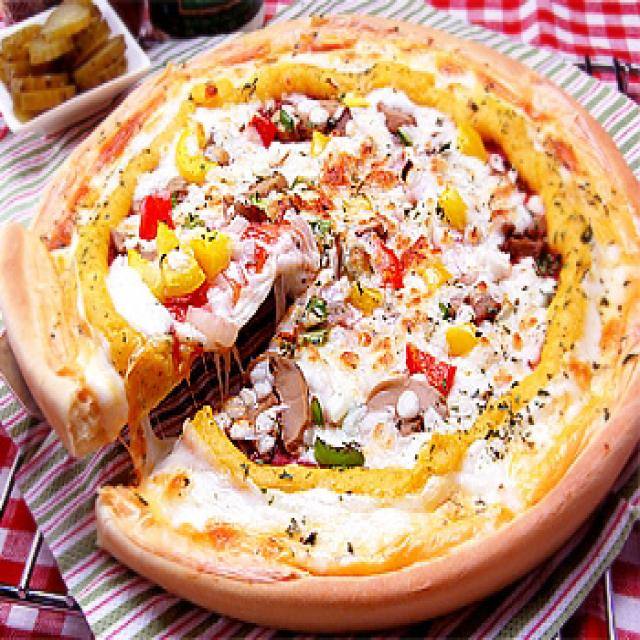Wet Waste: (0, 2, 640, 630)
